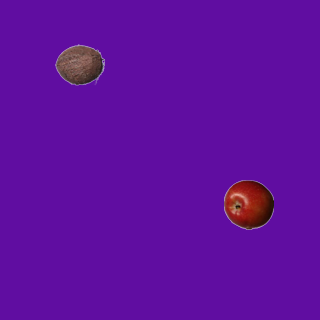Apple Braeburn: (223, 179, 273, 229)
Cocos: (54, 39, 104, 89)
